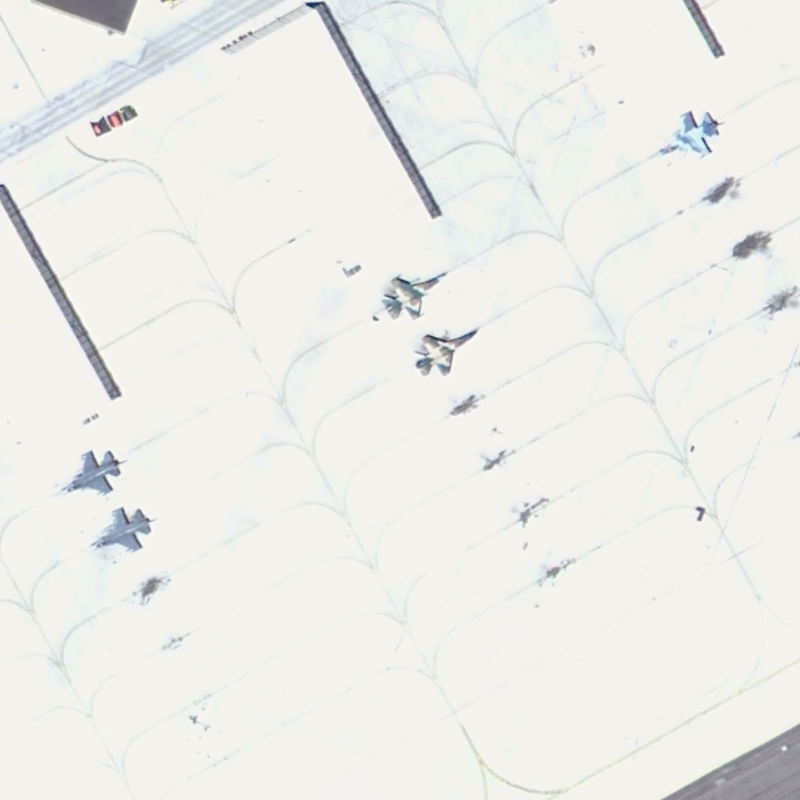A5: (410, 325, 482, 382), (380, 267, 451, 324), (650, 106, 722, 162), (54, 444, 124, 498), (85, 505, 153, 557)
